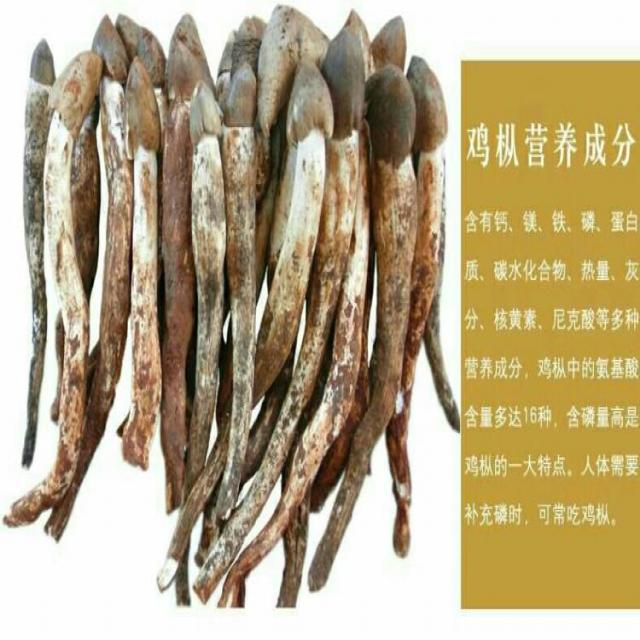Collybia albuminosa: (23, 17, 456, 618)
